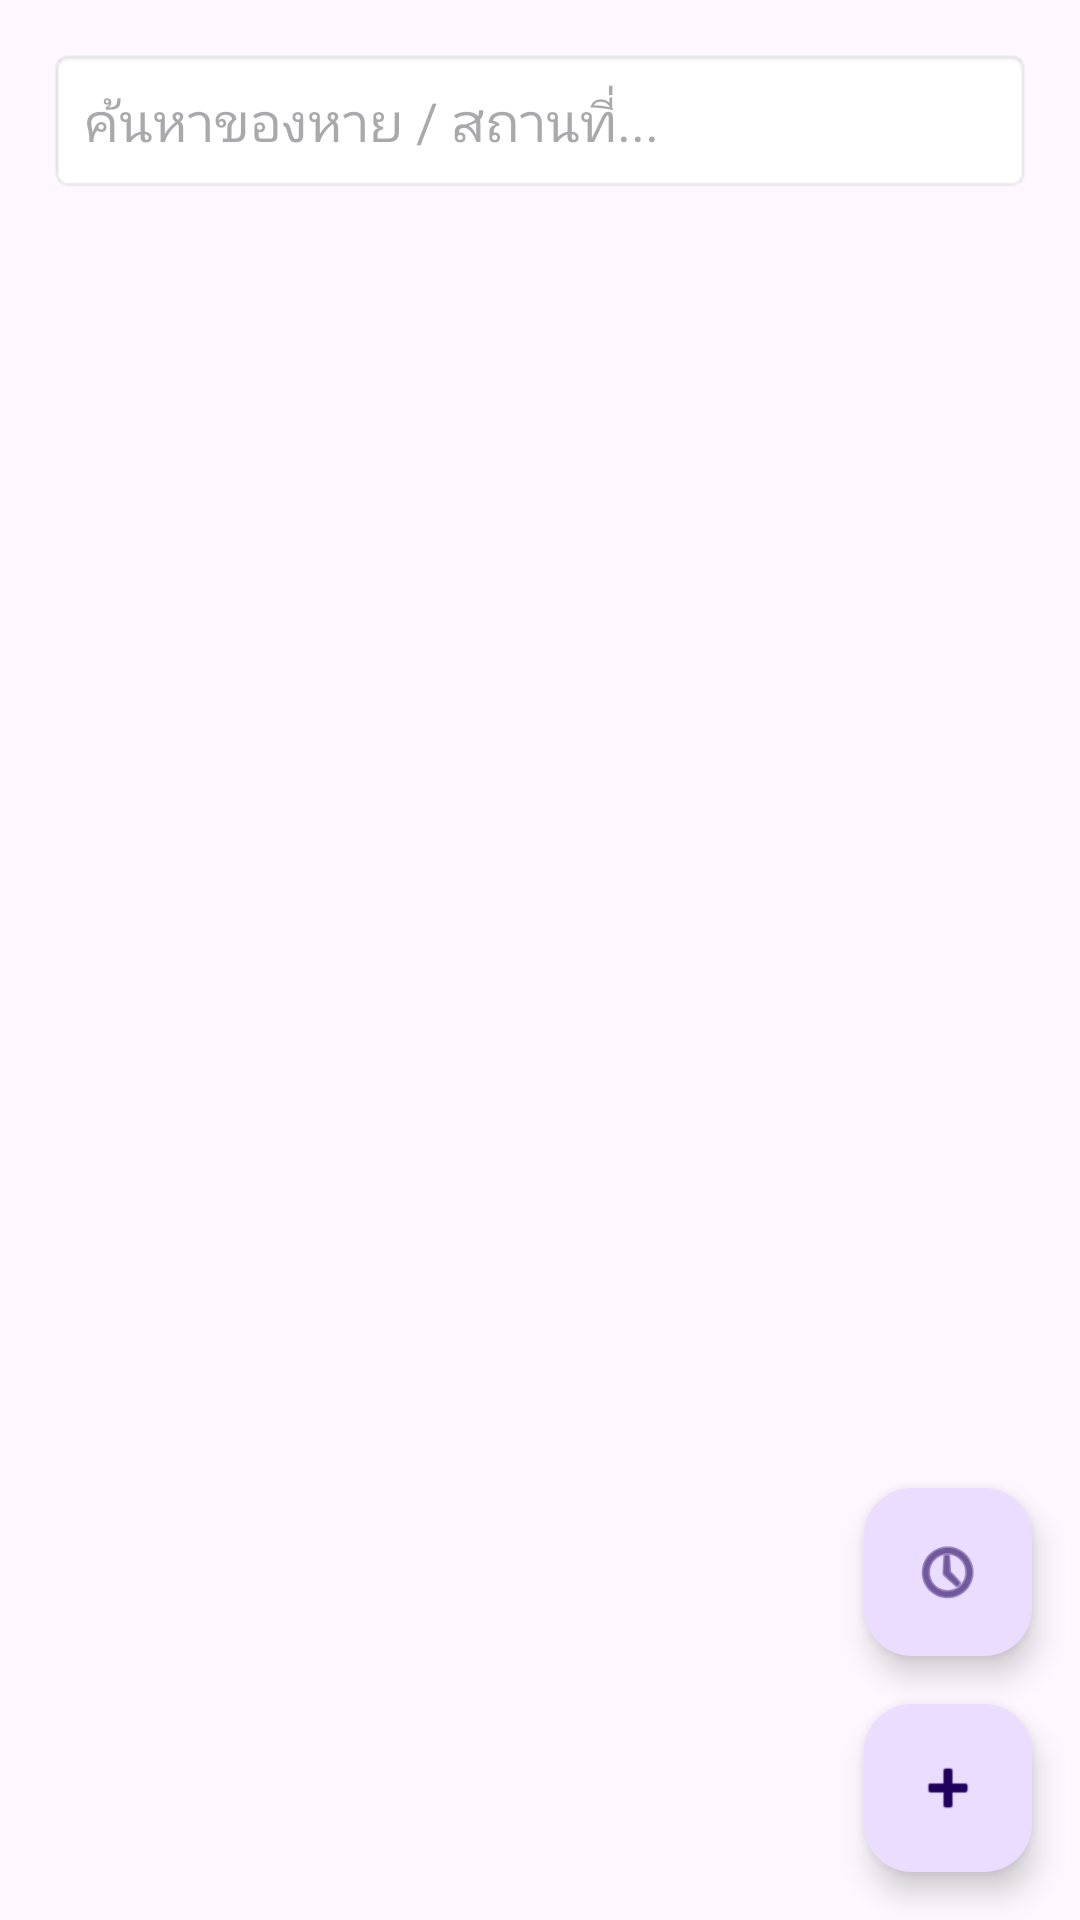

Point at icon controls on the screen. Image size 1080w x 1920h, points as (x=x, y=y).
Add Post: (x=948, y=1788)
History: (x=948, y=1572)
